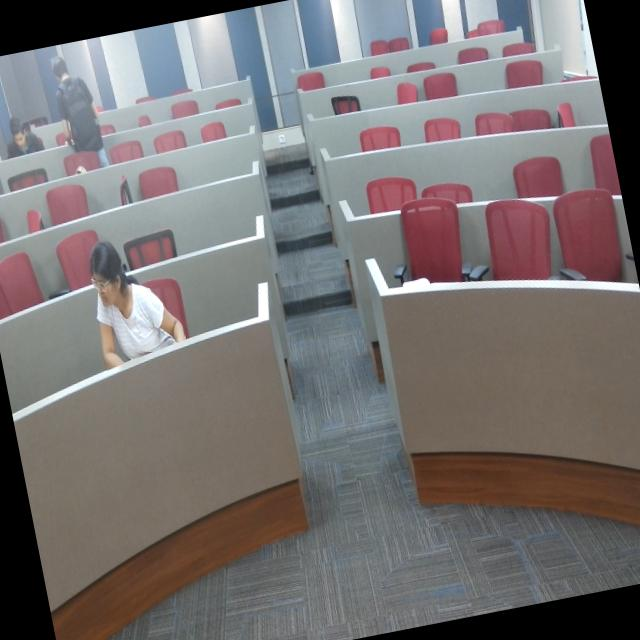cheating: (65, 216, 221, 410)
non-cheating: (0, 87, 50, 179)
